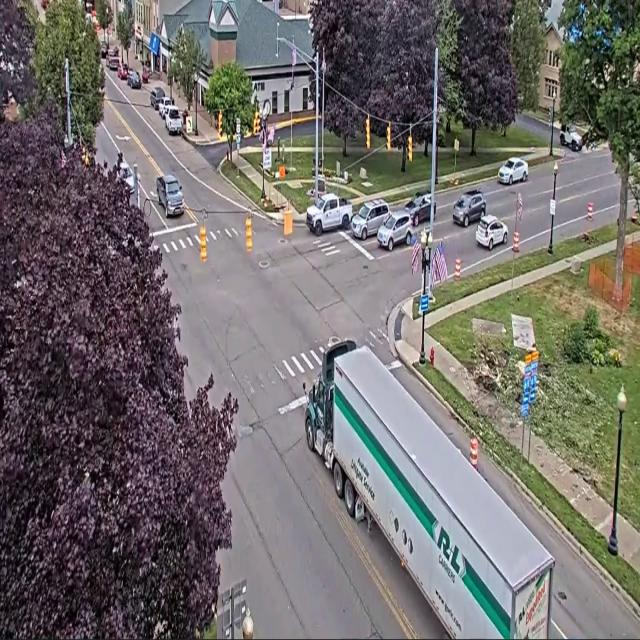car: (351, 199, 390, 240), (377, 210, 411, 251), (453, 189, 485, 227), (156, 175, 184, 216), (476, 216, 508, 250), (405, 192, 431, 226), (498, 157, 528, 184), (560, 124, 582, 151), (165, 106, 182, 135), (119, 162, 134, 193), (158, 96, 174, 119), (150, 87, 164, 110), (127, 70, 141, 88), (107, 54, 119, 71), (118, 63, 128, 79), (141, 66, 150, 83), (101, 40, 108, 59), (108, 47, 119, 58), (41, 0, 48, 10)
traffic signal: (199, 225, 207, 262), (245, 215, 252, 252), (253, 110, 260, 136), (366, 116, 370, 149), (217, 111, 222, 136), (387, 123, 391, 151), (408, 134, 412, 161)
truck: (303, 341, 554, 638), (306, 193, 352, 236)
